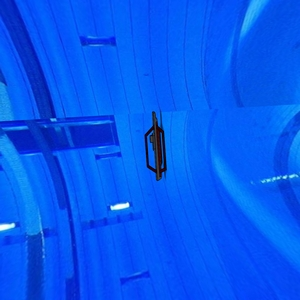submarine: (135, 107, 173, 190)
